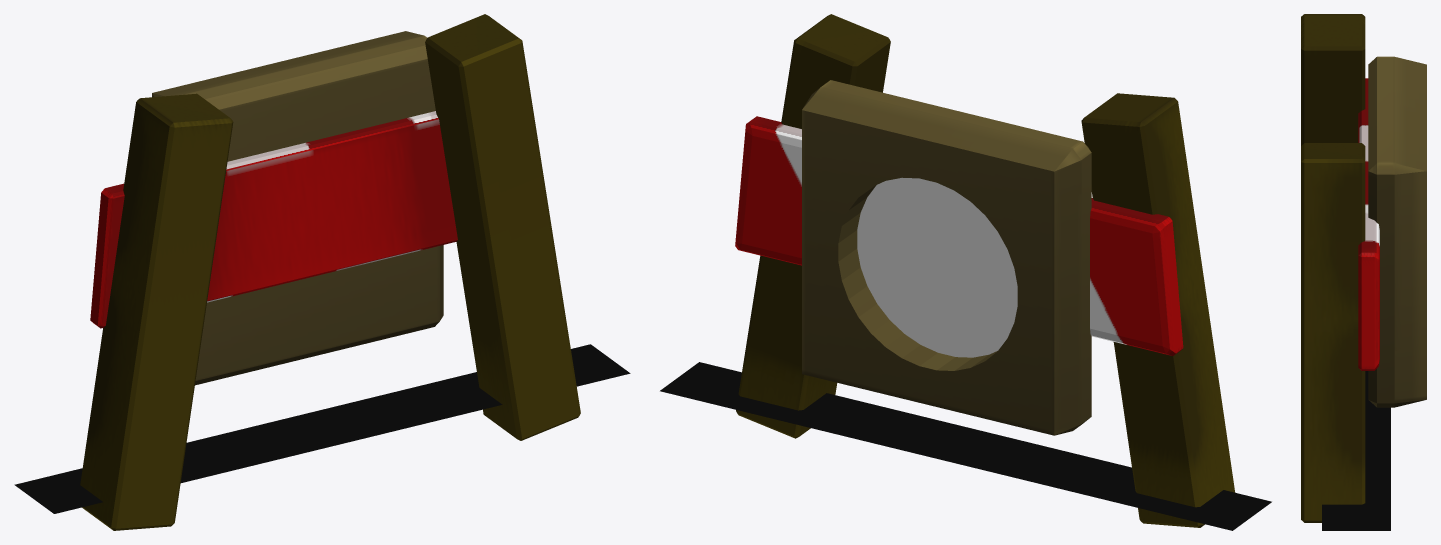
File: barrierShapeCircle1.obj
3 views of the same model, side by side, from view 1: azimuth 30°, elevation 25°; view 2: azimuth 150°, elevation 25°; view 3: azimuth 270°, elevation 25° (orthographic). The views are drawn at different scales.
Visible parts, largest first — view 1: barrier2_Cube.147, barrierShapes.006_Cube.149; view 2: barrier2_Cube.147, barrierShapes.006_Cube.149, barrierShapes.005_Cube.148; view 3: barrier2_Cube.147, barrierShapes.006_Cube.149.
Part boxes in pixels (bbox=[...]): barrier2_Cube.147: bbox=[14, 14, 630, 530]; barrierShapes.006_Cube.149: bbox=[152, 31, 443, 385]; barrier2_Cube.147: bbox=[660, 14, 1271, 530]; barrierShapes.006_Cube.149: bbox=[802, 80, 1091, 435]; barrierShapes.005_Cube.148: bbox=[857, 177, 1017, 357]; barrier2_Cube.147: bbox=[1301, 14, 1390, 530]; barrierShapes.006_Cube.149: bbox=[1368, 56, 1426, 407].
Size of the model in its own units: 2.6 by 1.74 by 0.571.
